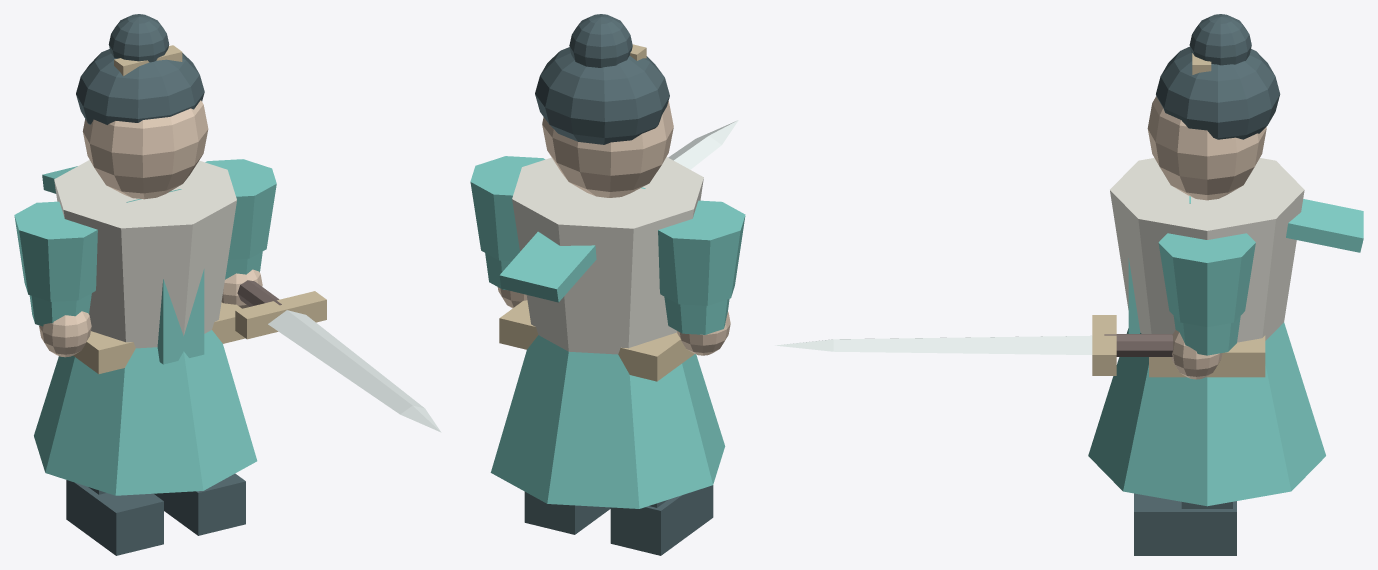
The model's file is sword.glb.
3 views of the same model, side by side, from view 1: azimuth 30°, elevation 25°; view 2: azimuth 150°, elevation 25°; view 3: azimuth 270°, elevation 25° (orthographic). The views are drawn at different scales.
Visible parts, largest first — view 1: 下摆, 衣襟, Head, Hair, 衣袖, 靴, 剑刃, 衣袖.001, 靴.001, 前襟, 腰带, 发髻 (+7 smaller); view 2: 下摆, 衣襟, Hair, 衣袖, Head, 靴, 衣袖.001, Scarf, 腰带, 发髻, 靴.001, 小臂 (+3 smaller); view 3: 下摆, 衣襟, Hair, 衣袖.001, Head, 靴.001, 剑刃, Scarf, 发髻, 腰带, 小臂.001, 剑格 (+2 smaller).
Boxes of the visible parts, left/top/right/bottom form: 下摆: left=34, top=330, right=257, bottom=495; 衣襟: left=54, top=160, right=236, bottom=348; Head: left=82, top=100, right=208, bottom=199; Hair: left=76, top=49, right=204, bottom=124; 衣袖: left=14, top=201, right=97, bottom=301; 靴: left=66, top=480, right=163, bottom=555; 剑刃: left=268, top=310, right=441, bottom=432; 衣袖.001: left=205, top=159, right=276, bottom=259; 靴.001: left=154, top=473, right=245, bottom=535; 前襟: left=157, top=269, right=204, bottom=364; 腰带: left=73, top=302, right=245, bottom=374; 发髻: left=108, top=14, right=169, bottom=62; 下摆: left=490, top=335, right=725, bottom=508; 衣襟: left=512, top=157, right=703, bottom=354; Hair: left=535, top=47, right=669, bottom=144; 衣袖: left=658, top=200, right=745, bottom=305; Head: left=542, top=101, right=673, bottom=197; 靴: left=610, top=485, right=713, bottom=555; 衣袖.001: left=470, top=156, right=545, bottom=261; Scarf: left=499, top=187, right=645, bottom=302; 腰带: left=499, top=300, right=694, bottom=381; 发髻: left=569, top=14, right=632, bottom=67; 靴.001: left=524, top=492, right=610, bottom=534; 小臂: left=664, top=296, right=729, bottom=334; 下摆: left=1088, top=322, right=1325, bottom=506; 衣襟: left=1110, top=158, right=1304, bottom=342; Hair: left=1156, top=46, right=1280, bottom=139; 衣袖.001: left=1158, top=233, right=1255, bottom=326; Head: left=1147, top=96, right=1266, bottom=200; 靴.001: left=1134, top=493, right=1236, bottom=555; 剑刃: left=775, top=335, right=1092, bottom=354; Scarf: left=1189, top=196, right=1363, bottom=252; 发髻: left=1189, top=14, right=1251, bottom=65; 腰带: left=1149, top=335, right=1265, bottom=377; 小臂.001: left=1173, top=316, right=1240, bottom=355; 剑格: left=1092, top=315, right=1116, bottom=375.
Size of the model in its own units: 1.11 by 2.07 by 2.18.
